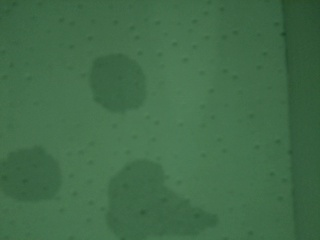Water_detected: (109, 169, 190, 239), (80, 50, 140, 107), (9, 152, 57, 193)
